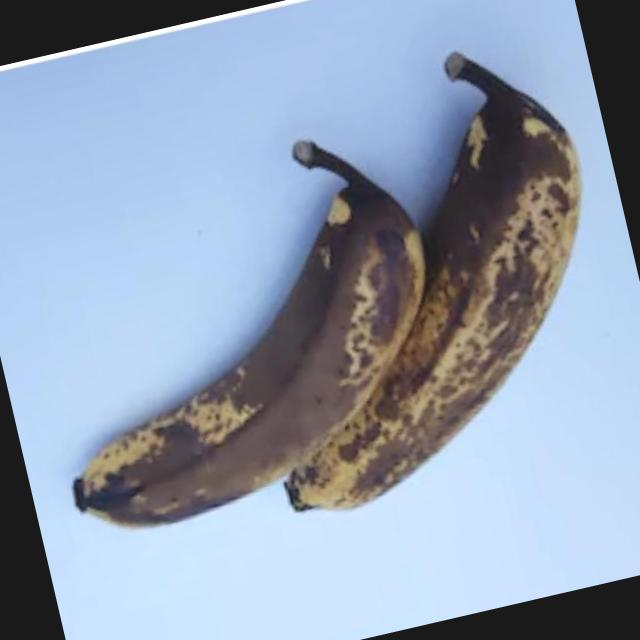Banana: (195, 29, 640, 526), (5, 118, 472, 548)
